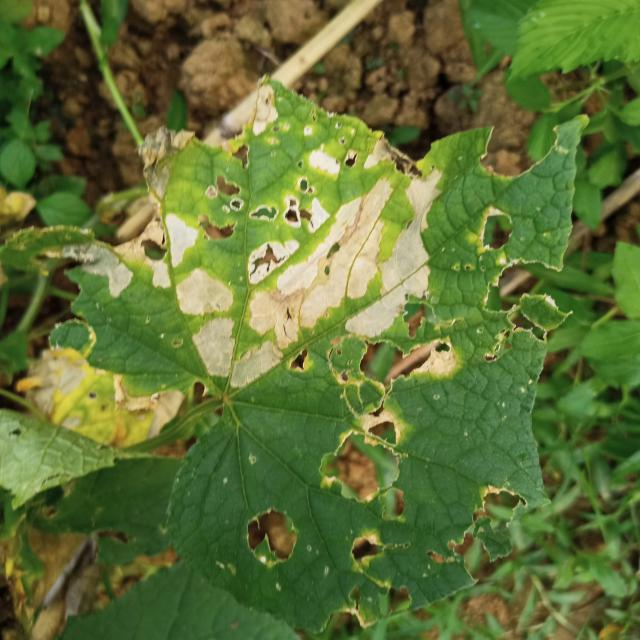disease_cucumber: (141, 139, 523, 430)
